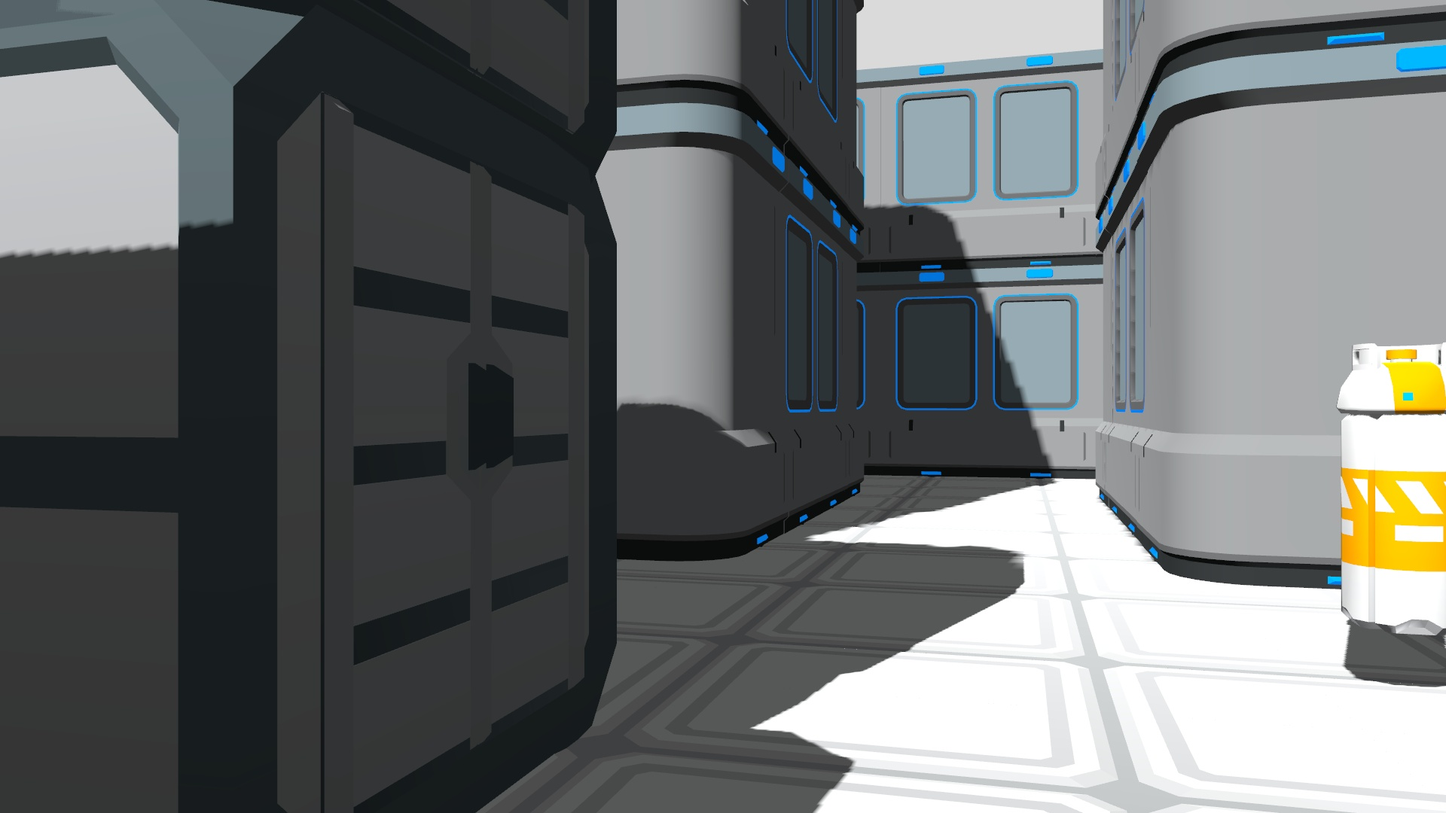yellow_barrel: (1334, 333, 1446, 642)
